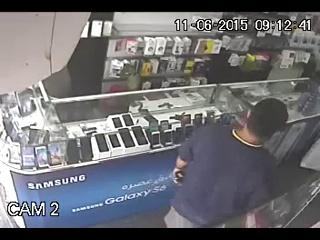Normal: (164, 96, 288, 226)
